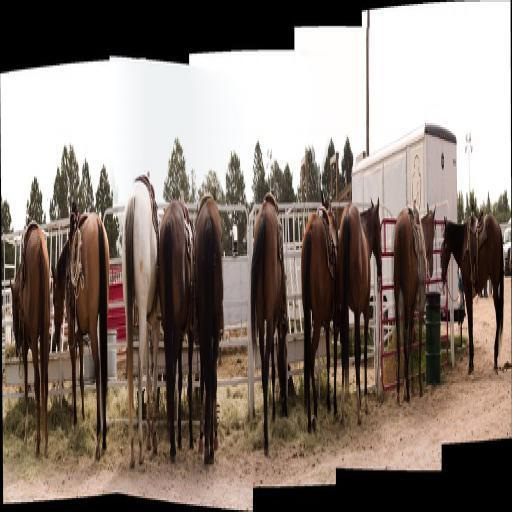horse: (51, 206, 111, 465), (120, 177, 160, 470), (336, 191, 383, 431), (250, 191, 290, 455), (10, 224, 52, 462), (440, 212, 504, 366), (157, 194, 193, 462), (392, 198, 436, 408), (300, 206, 340, 433), (192, 201, 224, 470)
